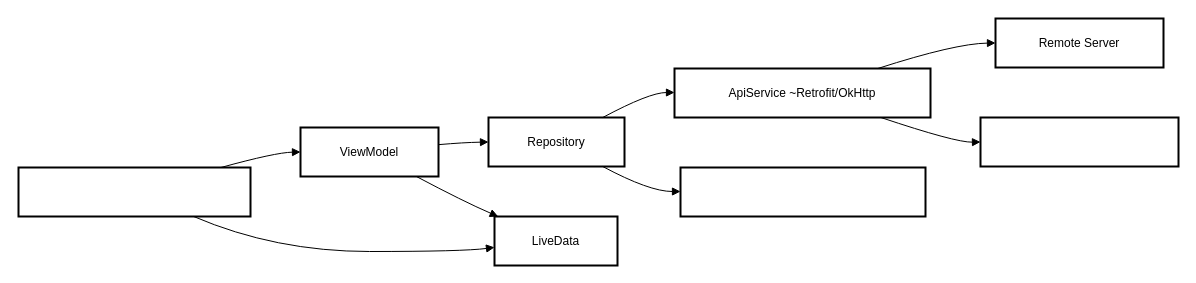
The diagram is 1196 pixels wide and 283 high, and some of its shapes have lost their labels. Each missing label, with the centre of its shape:
Local Database ~Optional: the point at 802,191
Logging Interceptor: the point at 1079,141
View ~Activity/Fragment: the point at 134,191
